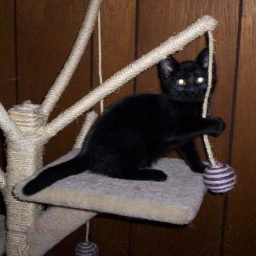cat: (14, 47, 222, 206)
